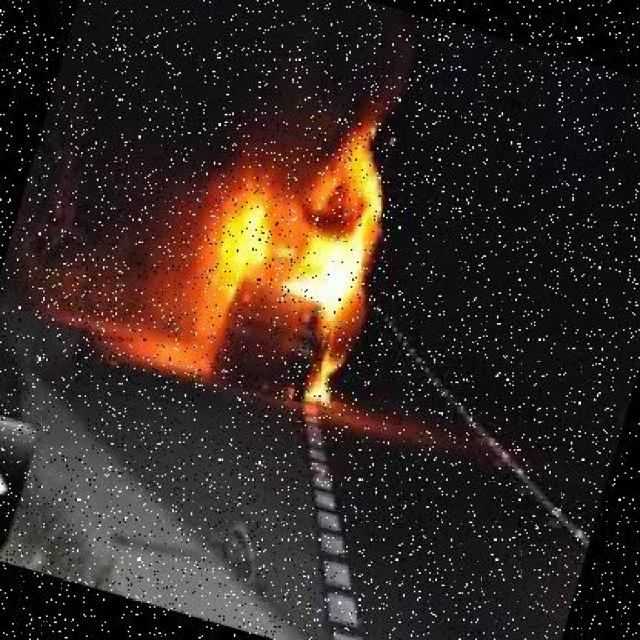fire: (168, 110, 423, 422)
